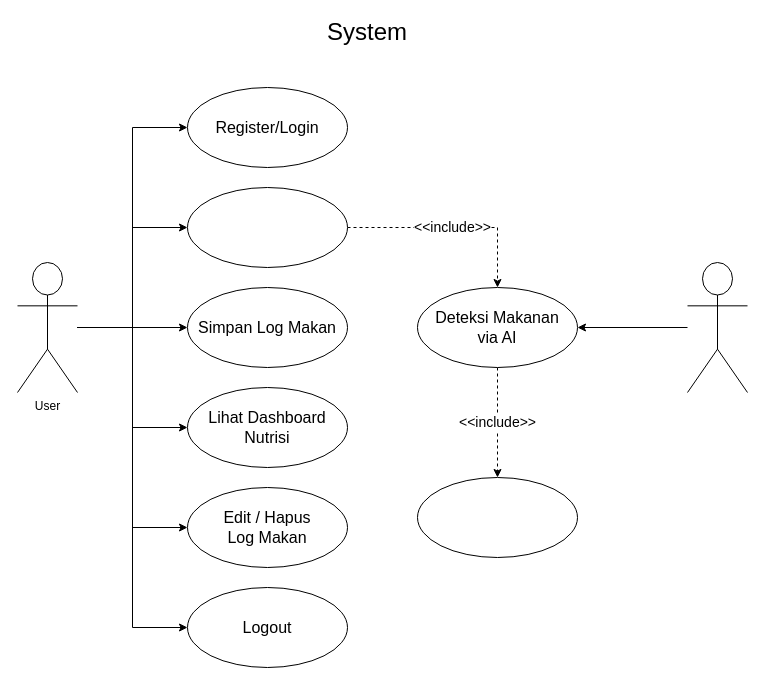
This 765x685 diagram has some shape labels left out. The shapes that lost their labels are listed below. From the top down, each one's box as (x1, y1, x2, y2) in pixels, then its label:
(186, 186, 348, 268): Upload Foto Makanan
(686, 262, 748, 392): AI System
(416, 476, 578, 558): Tampilkan Info Nutrisi
